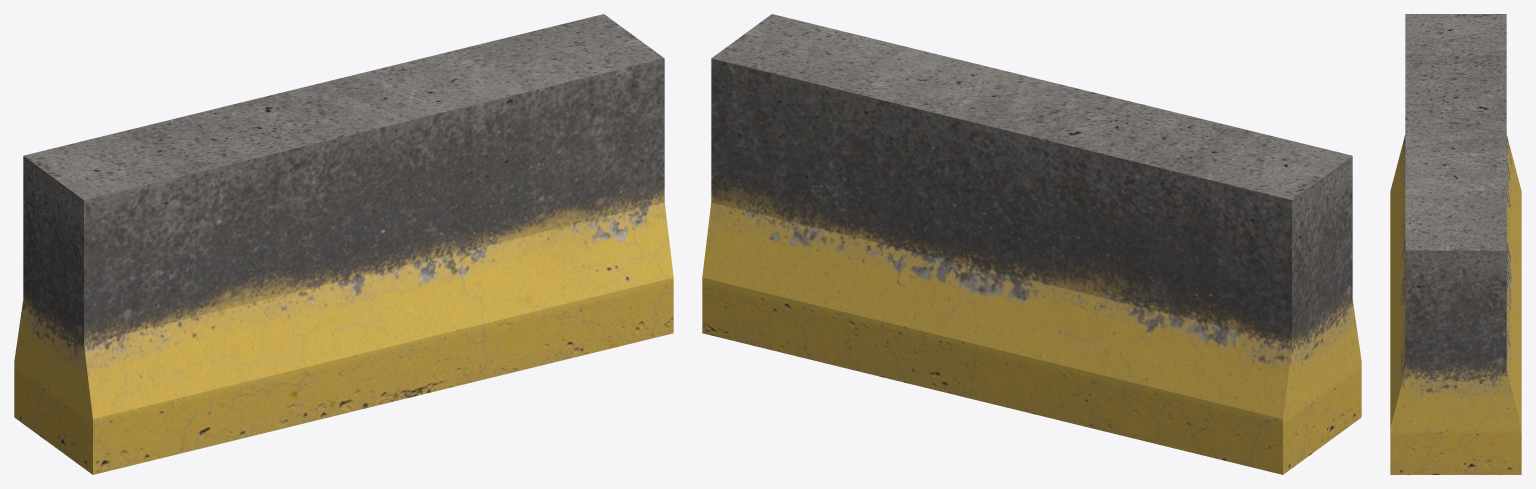
File: Road Barrier 01a.obj
3 renders of one model, left to right at view 1: azimuth 30°, elevation 25°; view 2: azimuth 150°, elevation 25°; view 3: azimuth 270°, elevation 25°, orthographic. The views are drawn at different scales.
Visible parts, largest first — view 1: mesh01; view 2: mesh01; view 3: mesh01.
Part boxes in pixels (x1,y1,x2,y2): mesh01: (14, 14, 673, 474); mesh01: (702, 14, 1361, 474); mesh01: (1390, 14, 1521, 474).
Size of the model in its own units: 2.03 by 0.8948 by 0.4754.
1 material, 1 textured.
